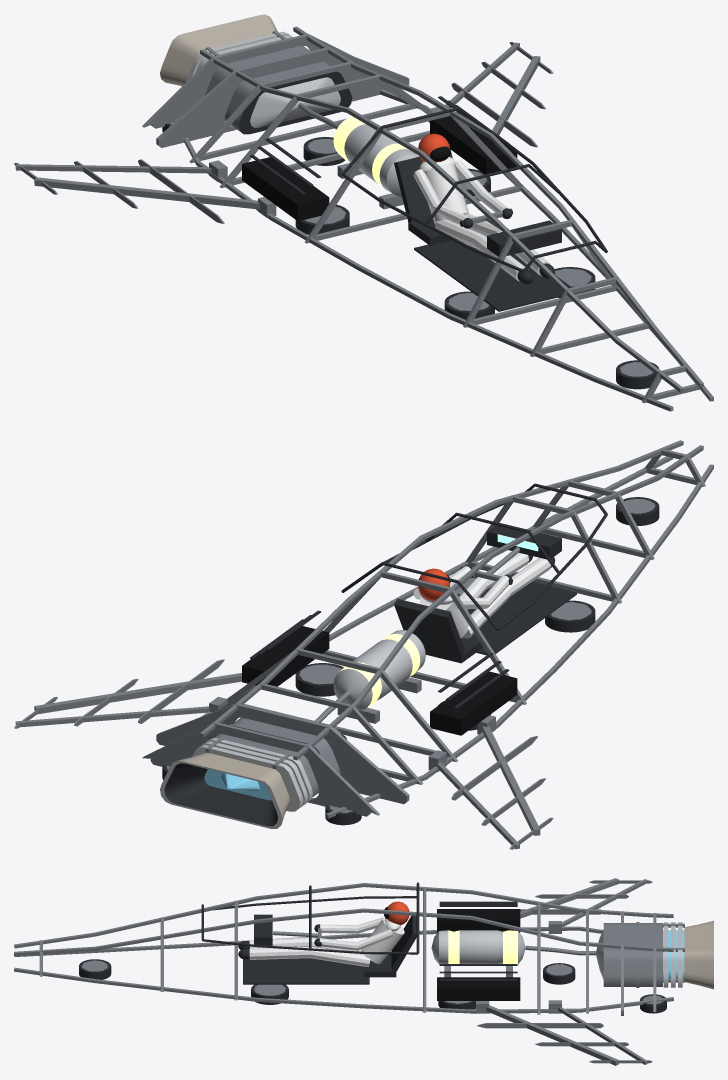
Rendered from vortex_skeleton.fbx.
3 renders of one model, top to bottom at view 1: azimuth 30°, elevation 25°; view 2: azimuth 150°, elevation 25°; view 3: azimuth 270°, elevation 25°, orthographic. The views are drawn at different scales.
Parts seen in each view (by area): view 1: Frames, Longerons, Engine, Engine_Mounts, Cockpit_Parts, Radiators, Pilot, Wing_Structure_L, Hover_Emitters, Reactor_Core, Canopy_Frame, Wing_Structure_R; view 2: Engine, Frames, Longerons, Engine_Mounts, Cockpit_Parts, Radiators, Wing_Structure_R, Reactor_Core, Pilot, Hover_Emitters, Wing_Structure_L, Canopy_Frame; view 3: Longerons, Engine, Cockpit_Parts, Pilot, Radiators, Reactor_Core, Wing_Structure_R, Hover_Emitters, Frames, Wing_Structure_L, Canopy_Frame, Engine_Mounts.
Boxes of the visible parts, x1,y1,x2,y2 form: Frames: (189,61,699,402); Longerons: (174,26,713,411); Engine: (160,14,352,134); Engine_Mounts: (142,33,409,147); Cockpit_Parts: (394,149,571,311); Radiators: (242,96,517,221); Pilot: (413,133,555,284); Wing_Structure_L: (14,159,276,223); Hover_Emitters: (162,122,659,389); Reactor_Core: (298,102,418,209); Canopy_Frame: (341,107,607,273); Wing_Structure_R: (428,42,553,147); Engine: (160,718,341,828); Frames: (217,448,705,784); Longerons: (200,440,713,818); Engine_Mounts: (142,703,409,816); Cockpit_Parts: (394,523,576,663); Radiators: (242,610,517,735); Wing_Structure_R: (14,659,241,728); Reactor_Core: (313,630,425,723); Pilot: (413,552,555,638); Hover_Emitters: (162,497,659,825); Wing_Structure_L: (428,715,553,849); Canopy_Frame: (341,483,607,630); Longerons: (14,883,673,1013); Engine: (596,920,713,989); Cockpit_Parts: (243,914,416,984); Pilot: (238,901,409,966); Radiators: (437,901,520,1000); Reactor_Core: (431,930,596,977); Wing_Structure_R: (476,1000,652,1065); Hover_Emitters: (79,959,666,1013); Frames: (39,887,588,1014); Wing_Structure_L: (520,878,652,933); Canopy_Frame: (201,882,419,954); Engine_Mounts: (621,911,656,1015).
Bounding box in the file's own units: 323 × 67.76 × 520.
